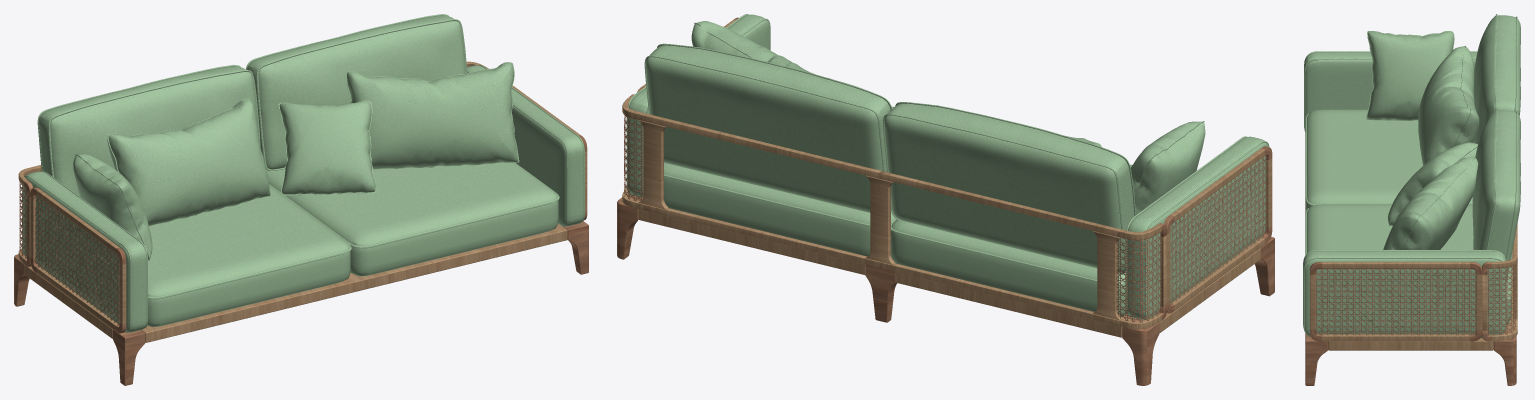
File: Wood_Sofa_prev.glb
3 renders of one model, left to right at view 1: azimuth 30°, elevation 25°; view 2: azimuth 150°, elevation 25°; view 3: azimuth 270°, elevation 25°, orthographic. The views are drawn at different scales.
Parts seen in each view (by area): view 1: seat02, seat01, pillow04, seat06, pillow03, seat05, seat03, wood09, pillow01, seat04, wood01, pillow02 (+3 smaller); view 2: seat05, seat06, seat03, wood09, wood03, seat01, seat02, wood01, wood04, pillow02, wood07, seat04 (+3 smaller); view 3: seat04, seat01, wood02, seat06, pillow02, pillow03, seat02, pillow04, seat05, seat03, wood08, wood09 (+4 smaller).
Part boxes in pixels (x1,y1,x2,y2): seat02: [266, 162, 559, 276]; seat01: [147, 185, 351, 326]; pillow04: [346, 62, 519, 169]; seat06: [246, 14, 467, 170]; pillow03: [107, 98, 270, 226]; seat05: [37, 65, 260, 196]; seat03: [22, 171, 147, 332]; wood09: [14, 221, 588, 385]; pillow01: [278, 100, 376, 195]; seat04: [467, 65, 584, 226]; wood01: [35, 195, 119, 325]; pillow02: [73, 154, 152, 260]; seat05: [883, 102, 1135, 274]; seat06: [644, 43, 891, 212]; seat03: [1126, 136, 1269, 320]; wood09: [617, 195, 1274, 385]; wood03: [622, 94, 1166, 329]; seat01: [891, 164, 1132, 316]; seat02: [664, 106, 895, 256]; wood01: [1170, 155, 1266, 304]; wood04: [639, 120, 1122, 320]; pillow02: [1131, 121, 1205, 214]; wood07: [1164, 146, 1272, 313]; seat04: [626, 14, 770, 197]; seat04: [1303, 250, 1506, 338]; seat01: [1305, 109, 1473, 211]; wood02: [1316, 269, 1476, 335]; seat06: [1472, 109, 1520, 280]; pillow02: [1366, 31, 1454, 120]; pillow03: [1418, 46, 1479, 165]; seat02: [1305, 204, 1512, 324]; pillow04: [1383, 157, 1478, 249]; seat05: [1473, 14, 1520, 143]; seat03: [1304, 51, 1477, 131]; wood08: [1310, 262, 1482, 341]; wood09: [1305, 198, 1516, 385].
Size of the model in its own units: 2.06 by 0.8139 by 0.8954.
4 materials, 4 textured.
